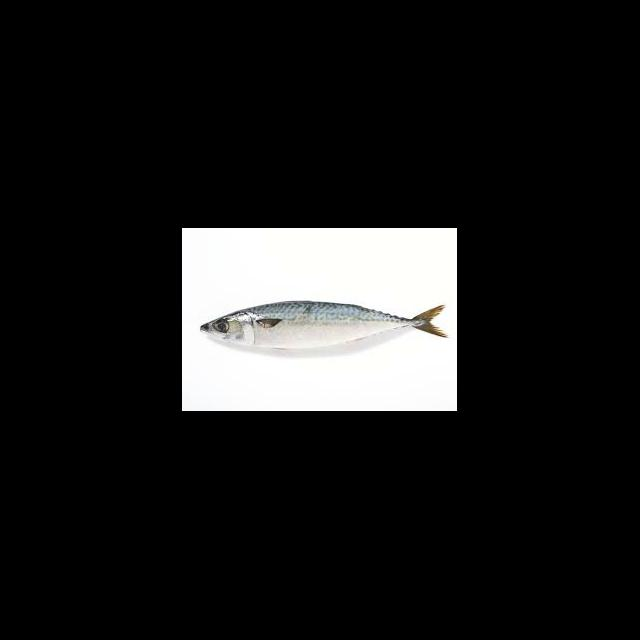fish: (200, 302, 447, 358)
